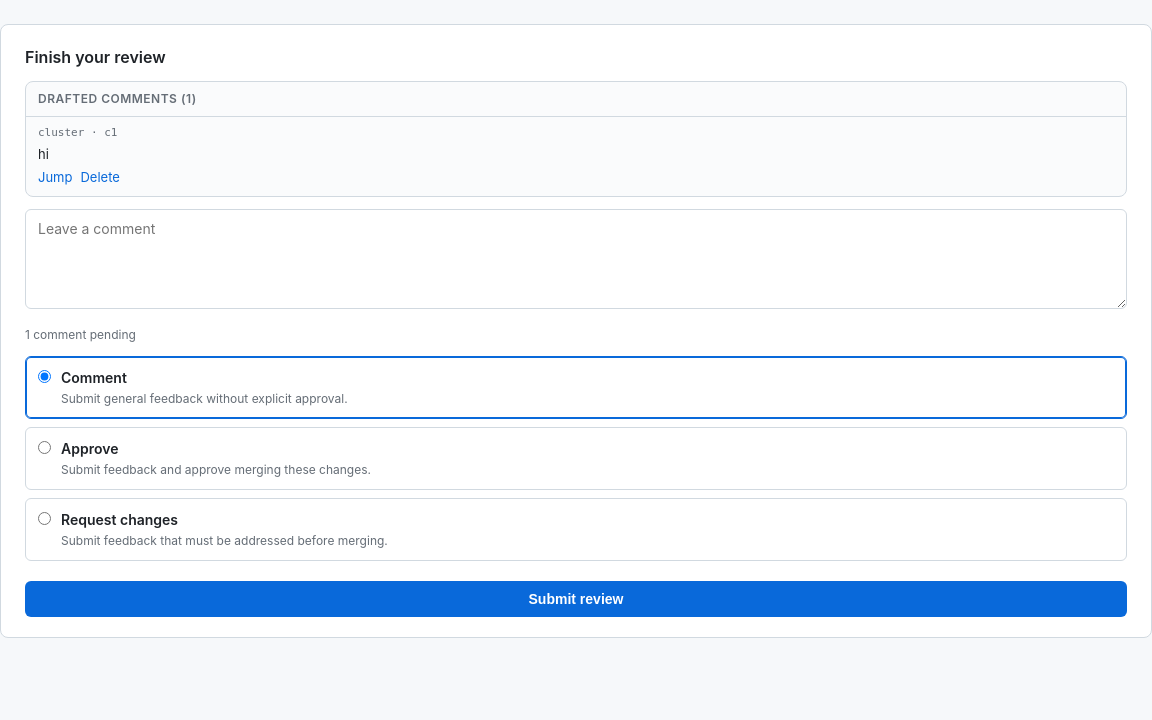
Test: ReviewSubmitBar › orphan dialog wiring › dropping an orphan removes it from the dialog
The image size is (1152, 720).
Click the button "Submit review": [576, 598] box x1=25 y1=580 x2=1127 y2=616
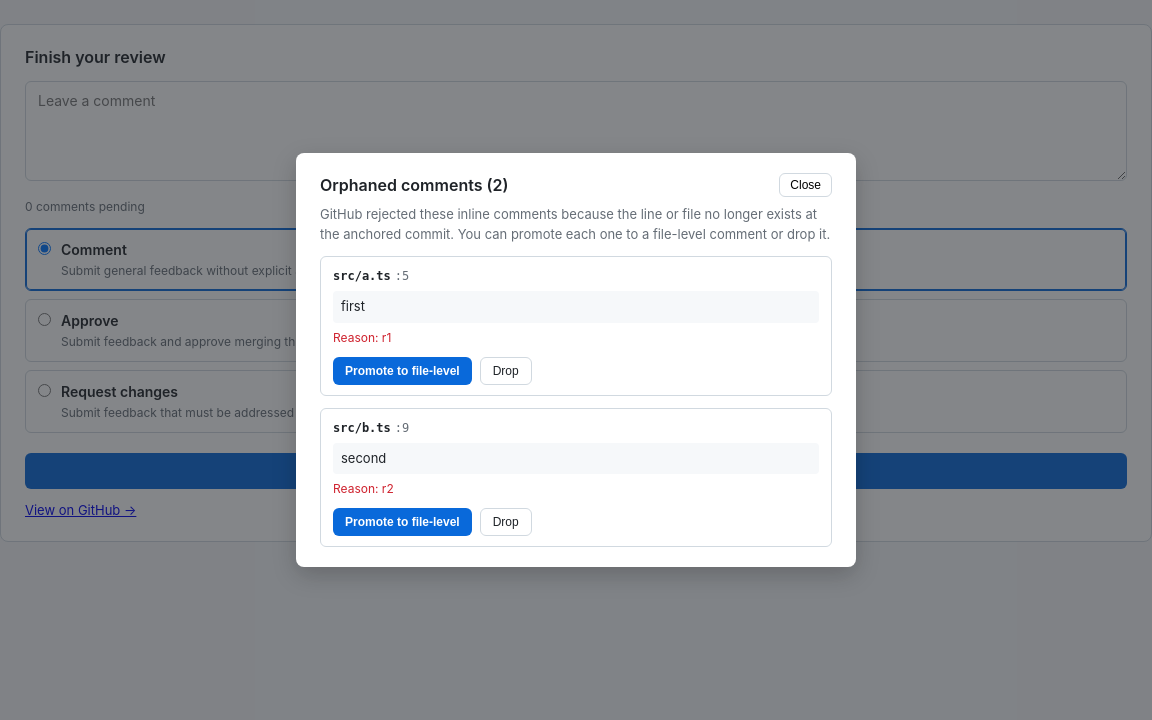
expect the dialog is shown: met, box x1=296 y1=153 x2=856 y2=567
// Drop first orphan
Click the button "Drop" below "src/a.ts": [506, 370] box x1=480 y1=356 x2=532 y2=384
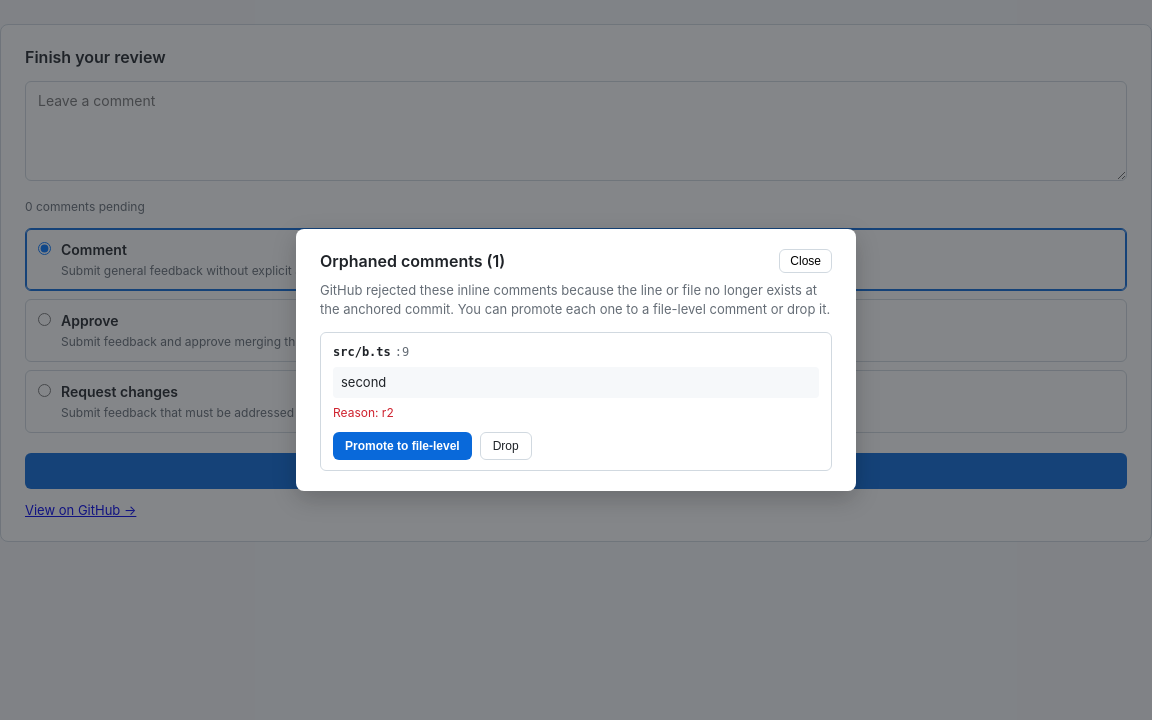
expect the text "src/b.ts" is shown: met, box x1=333 y1=343 x2=391 y2=361
expect the text "src/a.ts" is gone: met
